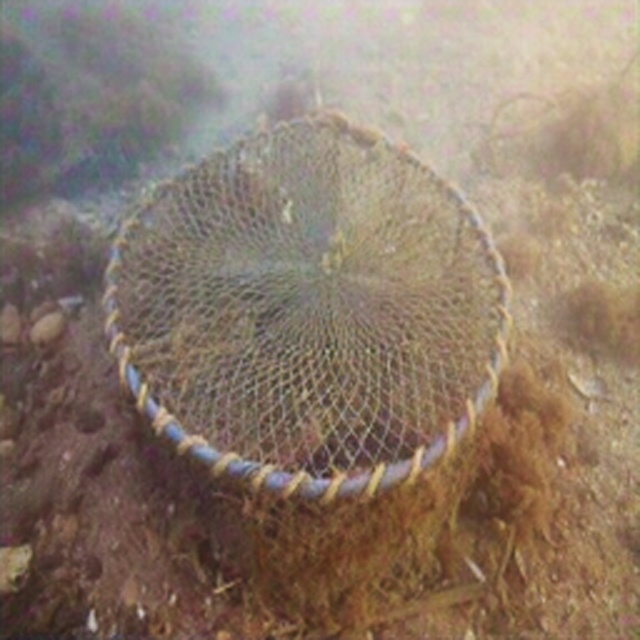mine: (101, 115, 510, 625)
